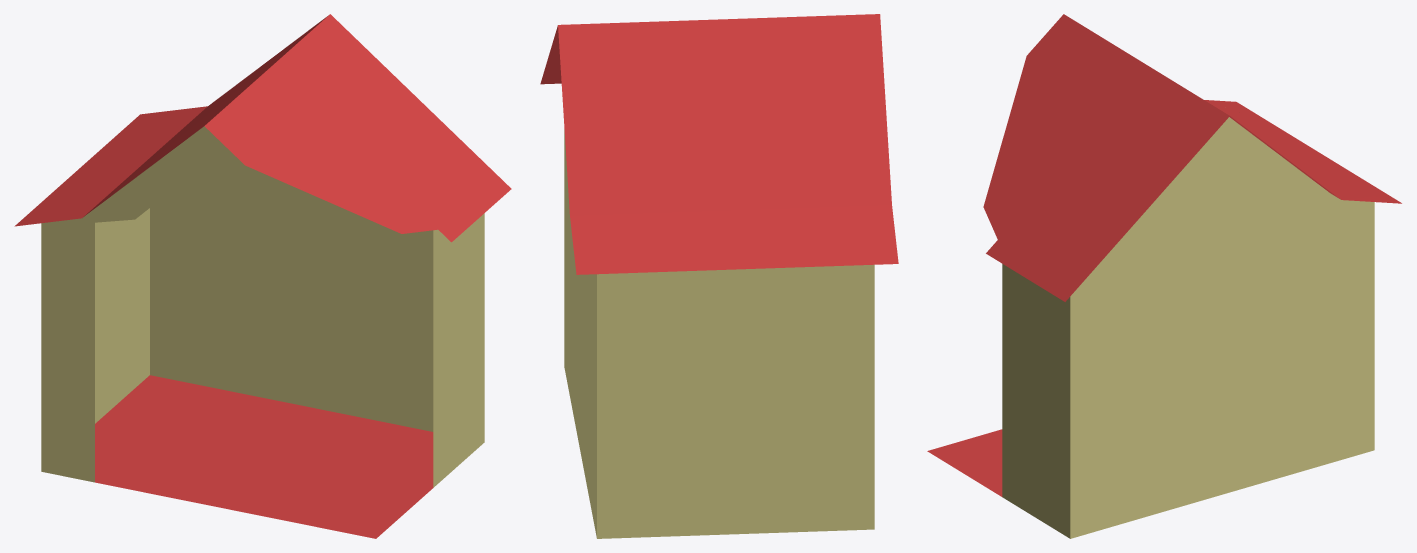
3 views of the same model, side by side, from view 1: azimuth 30°, elevation 25°; view 2: azimuth 150°, elevation 25°; view 3: azimuth 270°, elevation 25° (orthographic). The views are drawn at different scales.
Bounding box in the file's own units: 11.7 × 11.74 × 10.53.
